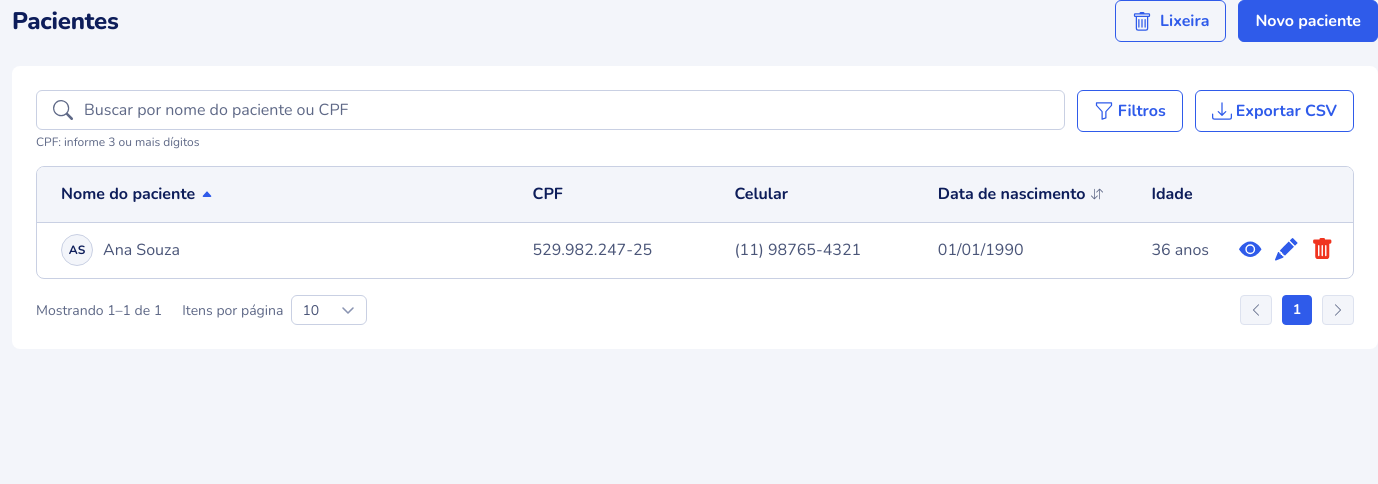
PatientListView filters and export › starts with the panel closed and no badge
The image size is (1378, 484).
Click the button with class "filters-toggle" at (1130, 111), box [1077, 90, 1183, 132]
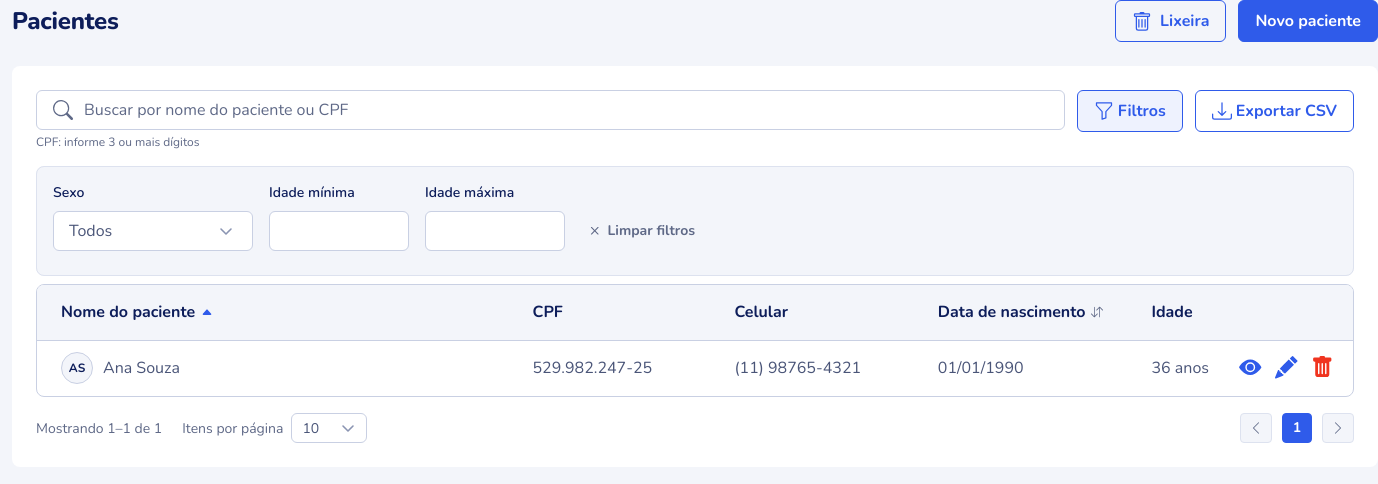
Result: the element showing "Sexo Idade mínima Idade máxima Limpar filtros" is shown at [36, 166, 1354, 276]
